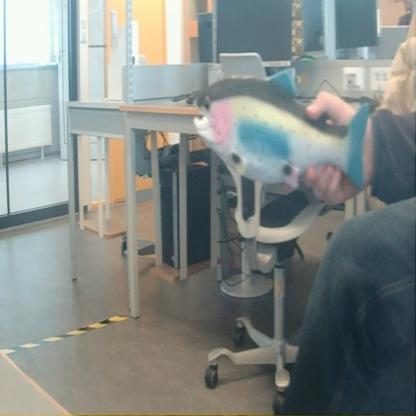rubberfish: (190, 69, 370, 201)
